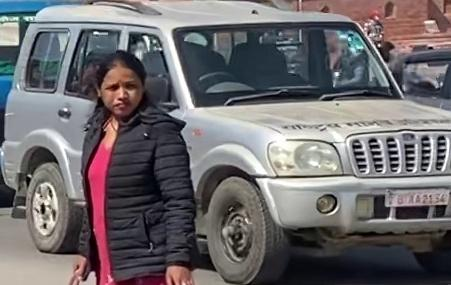license-plate: (378, 182, 451, 212)
